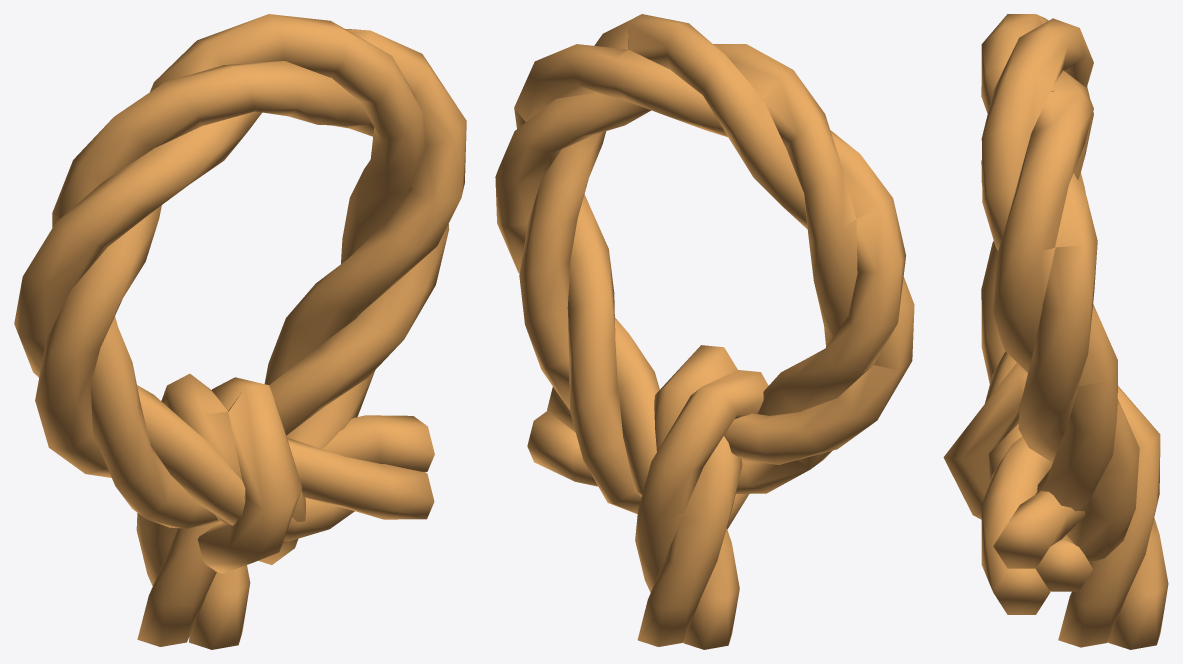
The model's file is rope_lasso.fbx.
3 renders of one model, left to right at view 1: azimuth 30°, elevation 25°; view 2: azimuth 150°, elevation 25°; view 3: azimuth 270°, elevation 25°, orthographic. The views are drawn at different scales.
Parts seen in each view (by area): view 1: Cylinder.003; view 2: Cylinder.003; view 3: Cylinder.003.
Part boxes in pixels (x1,y1,x2,y2): Cylinder.003: (14, 14, 466, 649); Cylinder.003: (495, 14, 914, 649); Cylinder.003: (943, 14, 1168, 649).
Size of the model in its own units: 0.3184 by 0.4446 by 0.1456.
